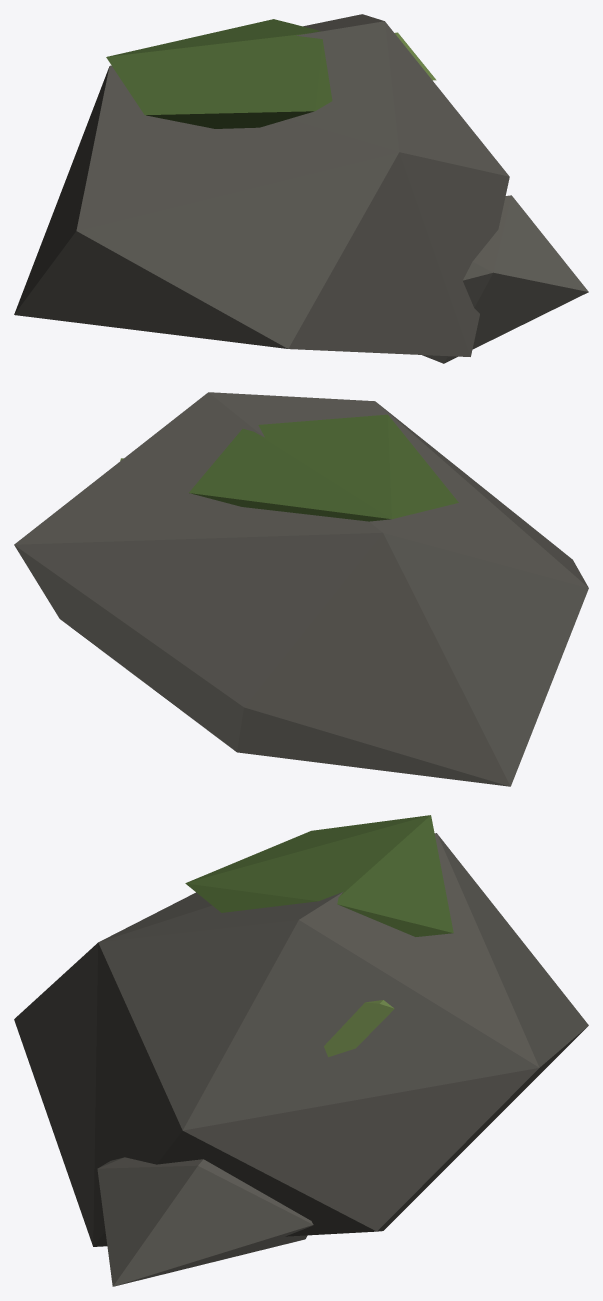
The picture shows the model from 3 angles, top to bottom: view 1: azimuth 30°, elevation 25°; view 2: azimuth 150°, elevation 25°; view 3: azimuth 270°, elevation 25°; orthographic projection. The views are drawn at different scales.
Visible parts, largest first — view 1: 石头_03; view 2: 石头_03; view 3: 石头_03.
Part boxes in pixels (bbox=[...]): 石头_03: bbox=[14, 14, 588, 363]; 石头_03: bbox=[14, 392, 588, 786]; 石头_03: bbox=[14, 815, 588, 1286].
Bounding box in the file's own units: 1.87 × 1.14 × 1.71.
